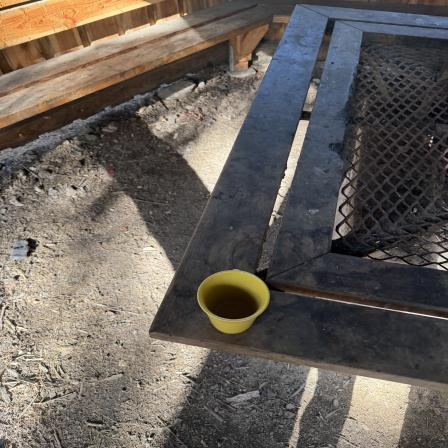yellow_cup: (195, 268, 272, 336)
